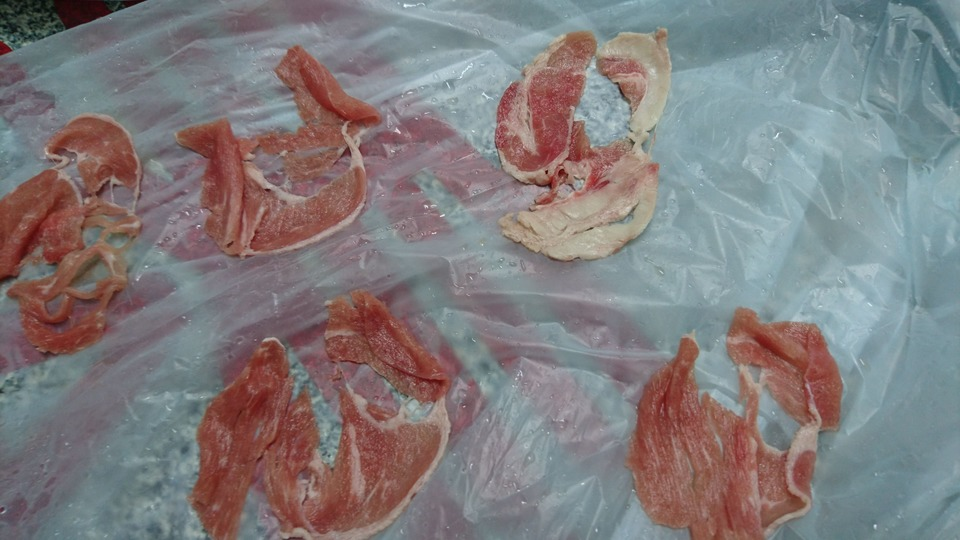restructured meat: (183, 280, 441, 539), (621, 310, 846, 540), (174, 44, 390, 257), (492, 24, 665, 263), (1, 107, 144, 352)
